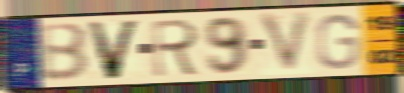9: (203, 14, 251, 77)
B: (36, 21, 90, 83)
G: (314, 12, 361, 72)
R: (151, 17, 202, 79)
V: (256, 9, 315, 77), (84, 18, 143, 82)
